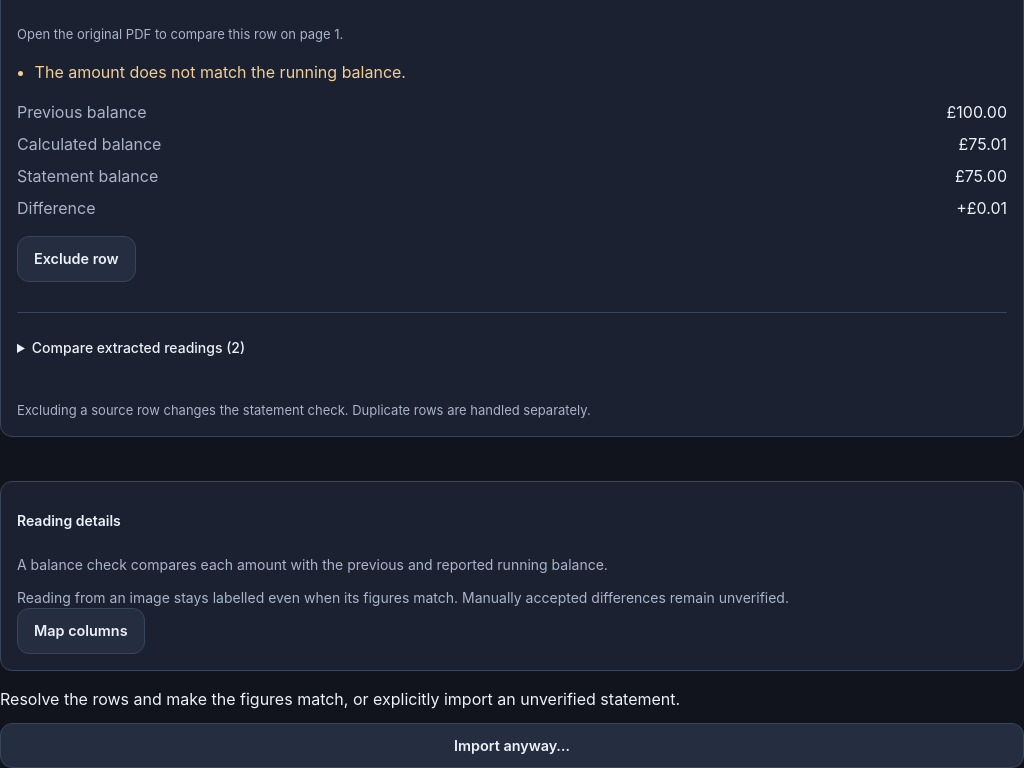
generic PDF evidence review › makes unread pages explicit in partial-import confirmation and lets the user cancel safely
(page scrolled)
Click the button "Import anyway…" at (512, 746), box left=0, top=723, right=1023, bottom=767
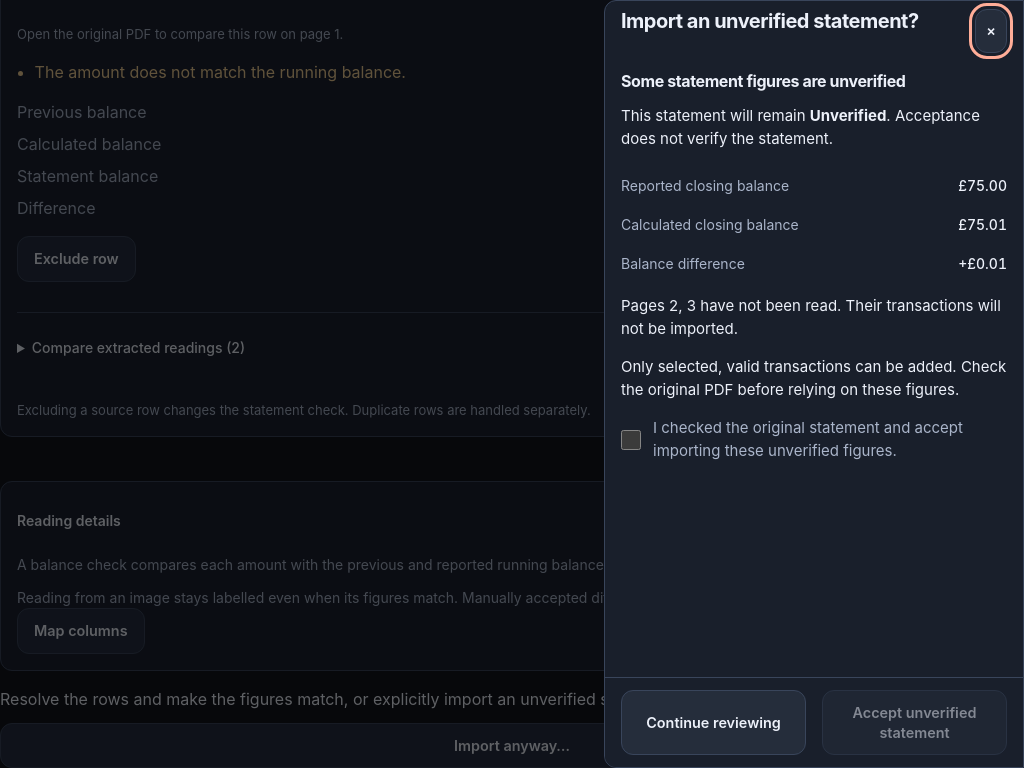
expect the text "Pages 2, 3 have not been read" is shown: met, box left=621, top=295, right=1007, bottom=340
Click the button "Continue reviewing" at (714, 723), box left=621, top=690, right=806, bottom=755
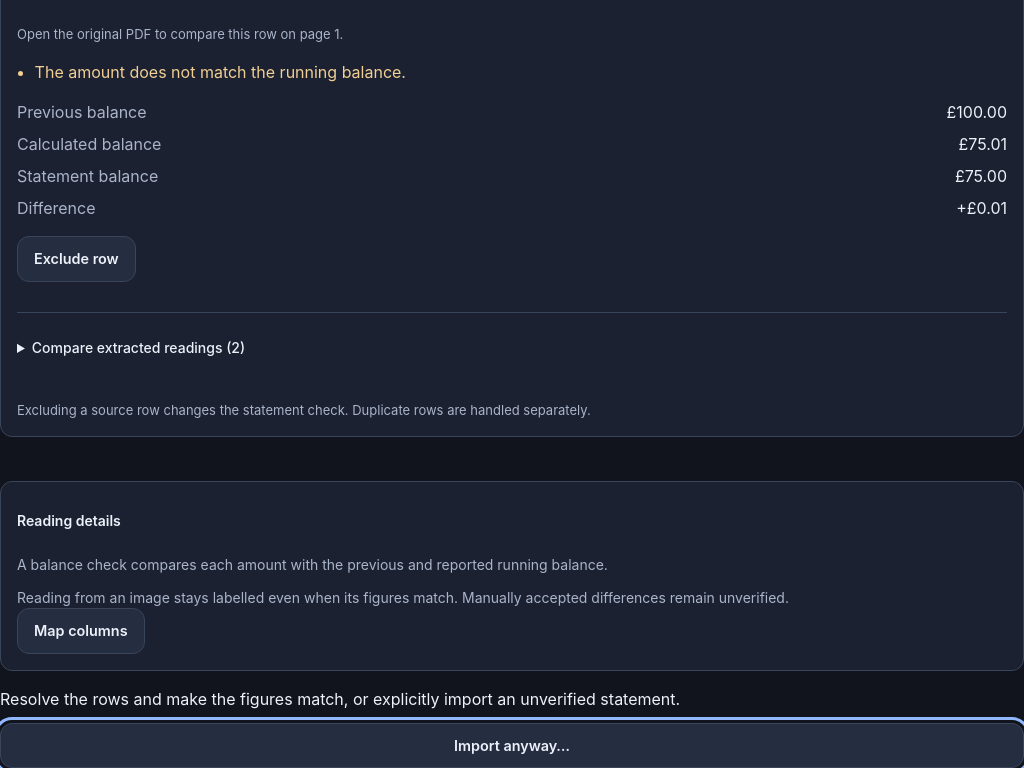
expect the dialog is gone: met
